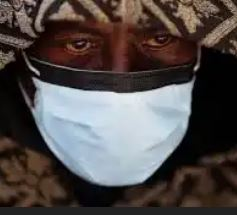with_facemask: (36, 65, 182, 192)
